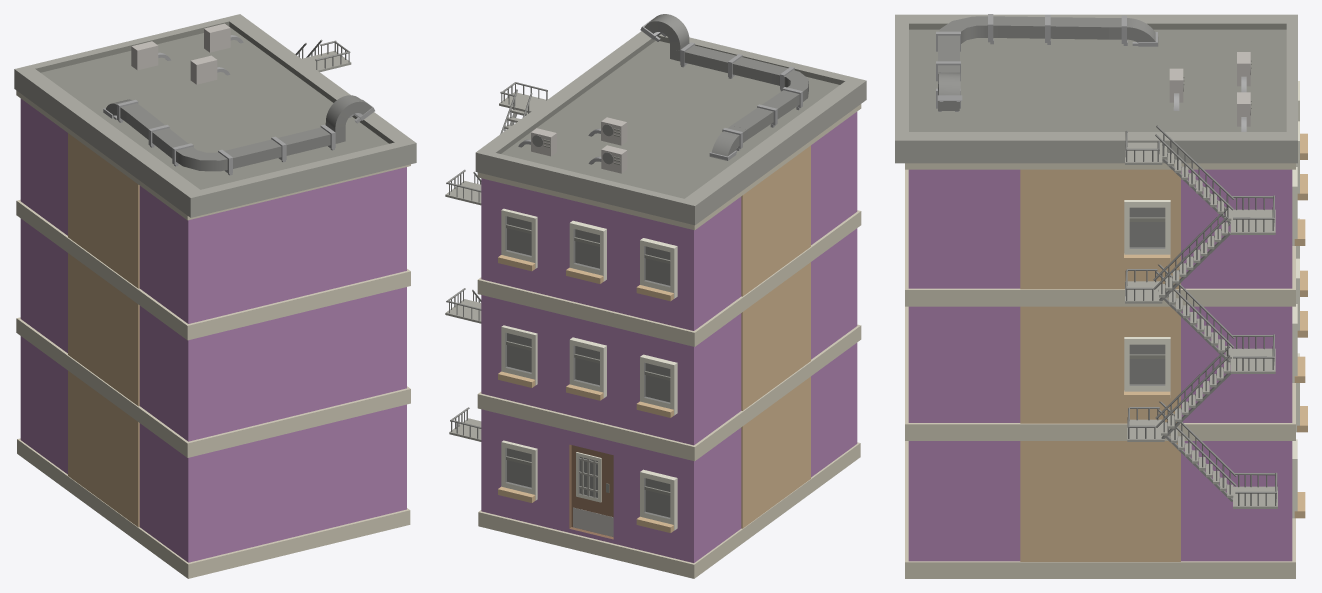
File: house24.fbx
3 renders of one model, left to right at view 1: azimuth 30°, elevation 25°; view 2: azimuth 150°, elevation 25°; view 3: azimuth 270°, elevation 25°, orthographic. The views are drawn at different scales.
Parts seen in each view (by area): view 1: o_1; view 2: o_1; view 3: o_1.
Boxes of the visible parts, x1,y1,x2,y2 form: o_1: (14, 14, 416, 578); o_1: (445, 14, 866, 578); o_1: (895, 14, 1307, 578).
Bounding box in the file's own units: 1004 × 1516 × 1178.
